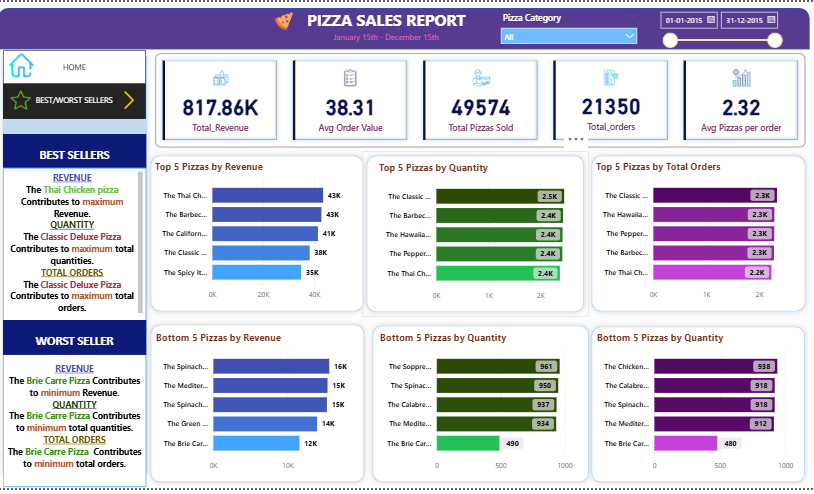

What the dashboard file says about the page in this screenshot:
{"tool":"powerbi","page":{"name":"BEST/WORST SELLERS","canvas":[1500,820],"ordinal":1},"visuals":[{"type":"shape","box":[0,74.3,260.1,738.2],"z":0},{"type":"cardVisual","fields":{"Data":["pizza_sales.Total_Revenue","pizza_sales.Avg Order Value","pizza_sales.Total Pizzas Sold","pizza_sales.Total_orders","pizza_sales.Avg Pizzas per order"]},"box":[260,81.2,1111.2,170],"z":1000},{"type":"shape","box":[0,10,1371.2,70],"z":2000},{"type":"textbox","box":[496.2,6.2,318.8,47.5],"z":3000},{"type":"textbox","box":[537.5,45,237.5,28.8],"z":4000},{"type":"image","box":[442.5,12.5,80,41.2],"z":5000},{"type":"shape","box":[250,251.7,375,278.7],"z":6000},{"type":"textbox","box":[8.4,223,241.6,57.4],"z":7000},{"type":"textbox","box":[8.4,280.4,241.6,260.1],"z":8000},{"type":"textbox","box":[8.4,586.1,241.6,233.1],"z":9000},{"type":"textbox","box":[8.4,537.2,241.6,59.1],"z":10000},{"type":"slicer","fields":{"Values":["pizza_sales.pizza_category"]},"box":[838.8,12.5,250,63.8],"z":11000},{"type":"slicer","fields":{"Values":["pizza_sales.order_date"]},"box":[1106.4,6.8,226.4,74.3],"z":12000},{"type":"shape","box":[614.9,251.7,383.4,280.4],"z":13000},{"type":"shape","box":[994.9,251.7,376.7,278.7],"z":14000},{"type":"shape","box":[250,537.2,376.7,282.1],"z":15000},{"type":"shape","box":[625,538.9,381.8,280.4],"z":16000},{"type":"shape","box":[995,540,376.2,278.8],"z":17000},{"type":"barChart","title":"Top 5 Pizzas by Revenue","fields":{"Category":["pizza_sales.pizza_name"],"Y":["pizza_sales.Total_Revenue"]},"box":[260.1,266.9,354.7,244.9],"z":18000},{"type":"barChart","title":"Bottom 5 Pizzas by Revenue","fields":{"Category":["pizza_sales.pizza_name"],"Y":["pizza_sales.Total_Revenue"]},"box":[261.8,555.7,354.7,244.9],"z":19000},{"type":"barChart","title":"Top 5 Pizzas by Quantity","fields":{"Category":["pizza_sales.pizza_name"],"Y":["pizza_sales.Total Pizzas Sold"]},"box":[638.5,268.6,354.7,244.9],"z":20000},{"type":"barChart","title":"Bottom 5 Pizzas by Quantity","fields":{"Category":["pizza_sales.pizza_name"],"Y":["pizza_sales.Total Pizzas Sold"]},"box":[640.2,555.7,353,244.9],"z":21000},{"type":"barChart","title":"Top 5 Pizzas by Total Orders","fields":{"Category":["pizza_sales.pizza_name"],"Y":["pizza_sales.Total_orders"]},"box":[1005.1,266.9,354.7,244.9],"z":22000},{"type":"barChart","title":"Bottom 5 Pizzas by Quantity","fields":{"Category":["pizza_sales.pizza_name"],"Y":["pizza_sales.Total_orders"]},"box":[1006.8,555.7,354.7,244.9],"z":23000},{"type":"pageNavigator","box":[8.4,133.4,241.6,64.2],"z":24000},{"type":"pageNavigator","box":[8.4,81.1,241.6,57.4],"z":25000},{"type":"image","box":[168.9,145.3,104.7,40.5],"z":25001},{"type":"image","box":[8.4,81.1,62.5,52.4],"z":25002},{"type":"image","box":[8.4,143.6,60.8,43.9],"z":25003}]}

Visuals, with their boxes on the page's 1500x820 design canvas (x1, y1, x2, y2). These are canvas units, not pixel positions in the 814x494 screenshot, which may show the page scaled, cropped or inside an application window:
shape: [left=0, top=74, right=260, bottom=812]
cardVisual - pizza_sales.Total_Revenue x pizza_sales.Avg Order Value: [left=260, top=81, right=1371, bottom=251]
shape: [left=0, top=10, right=1371, bottom=80]
textbox: [left=496, top=6, right=815, bottom=54]
textbox: [left=538, top=45, right=775, bottom=74]
image: [left=442, top=12, right=522, bottom=54]
shape: [left=250, top=252, right=625, bottom=530]
textbox: [left=8, top=223, right=250, bottom=280]
textbox: [left=8, top=280, right=250, bottom=540]
textbox: [left=8, top=586, right=250, bottom=819]
textbox: [left=8, top=537, right=250, bottom=596]
slicer - pizza_sales.pizza_category: [left=839, top=12, right=1089, bottom=76]
slicer - pizza_sales.order_date: [left=1106, top=7, right=1333, bottom=81]
shape: [left=615, top=252, right=998, bottom=532]
shape: [left=995, top=252, right=1372, bottom=530]
shape: [left=250, top=537, right=627, bottom=819]
shape: [left=625, top=539, right=1007, bottom=819]
shape: [left=995, top=540, right=1371, bottom=819]
"Top 5 Pizzas by Revenue" barChart: [left=260, top=267, right=615, bottom=512]
"Bottom 5 Pizzas by Revenue" barChart: [left=262, top=556, right=616, bottom=801]
"Top 5 Pizzas by Quantity" barChart: [left=638, top=269, right=993, bottom=514]
"Bottom 5 Pizzas by Quantity" barChart: [left=640, top=556, right=993, bottom=801]
"Top 5 Pizzas by Total Orders" barChart: [left=1005, top=267, right=1360, bottom=512]
"Bottom 5 Pizzas by Quantity" barChart: [left=1007, top=556, right=1362, bottom=801]
pageNavigator: [left=8, top=133, right=250, bottom=198]
pageNavigator: [left=8, top=81, right=250, bottom=138]
image: [left=169, top=145, right=274, bottom=186]
image: [left=8, top=81, right=71, bottom=134]
image: [left=8, top=144, right=69, bottom=188]
